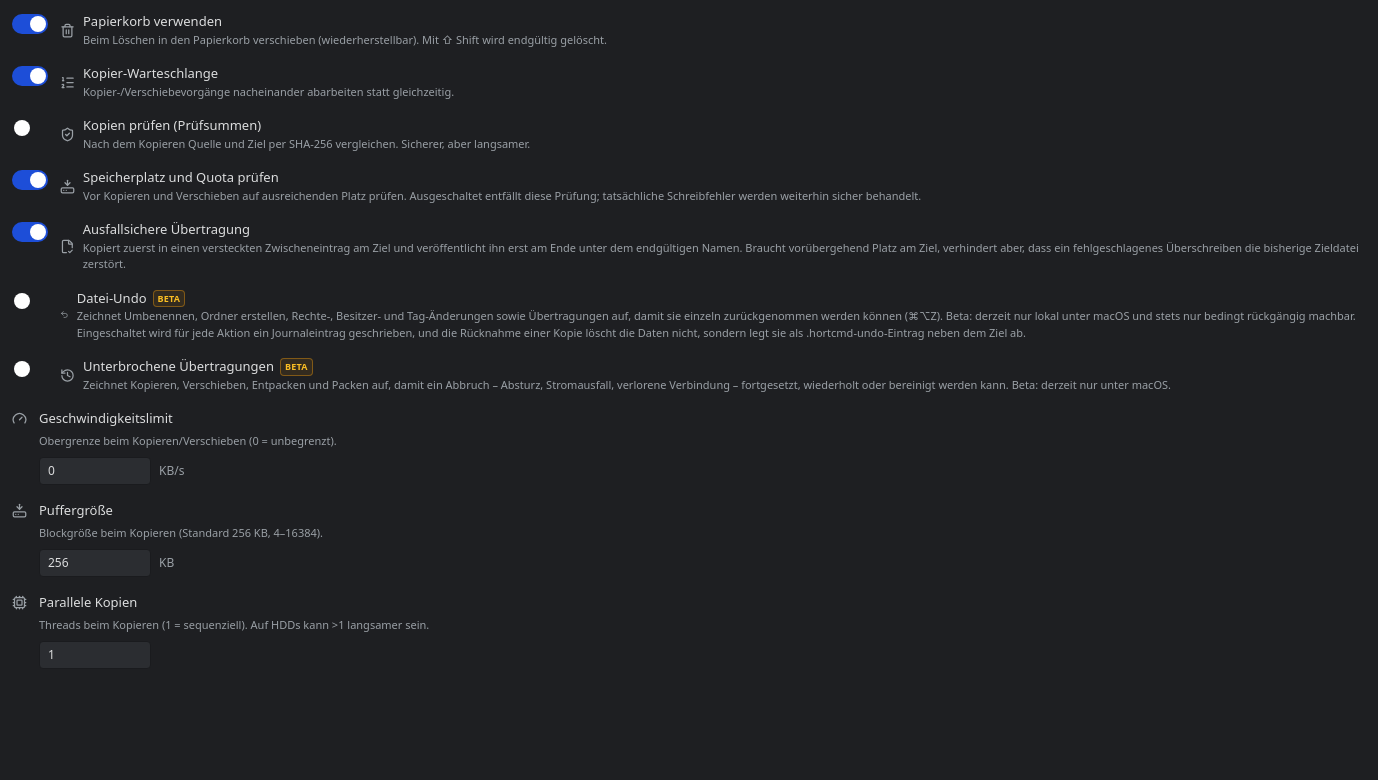
Scenario: File operations › offers transfer recovery off, marked BETA, and warns once it is on
Expected: the label "Unterbrochene Übertragungen" shows "BETA", [285,360,308,373]
Click the switch named "Unterbrochene Übertragungen". click: (30, 369)
box: [12,359,48,379]
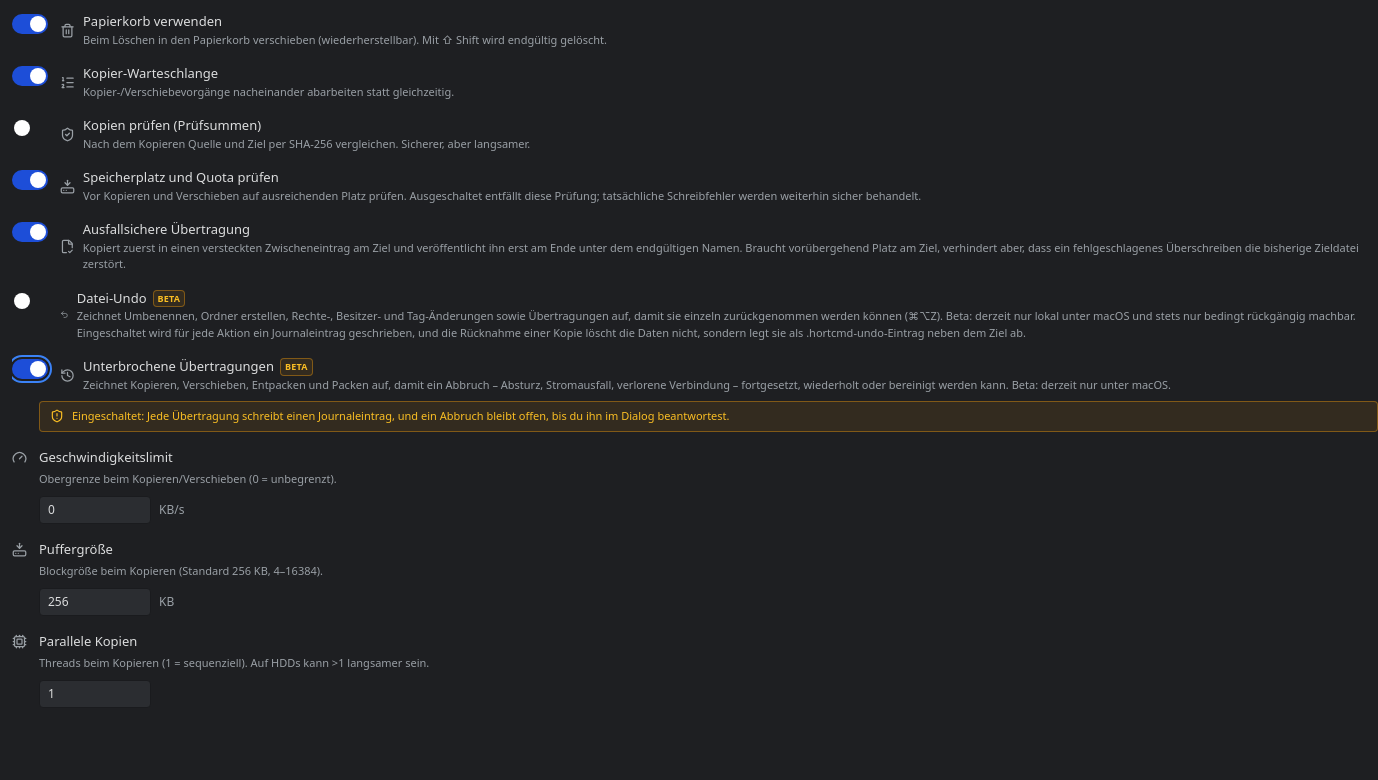
Now the text "Eingeschaltet: Jede Übertragung schreibt einen Journaleintrag, und ein Abbruch bleibt offen, bis du ihn im Dialog beantw" is shown, box [72,408,730,423]
